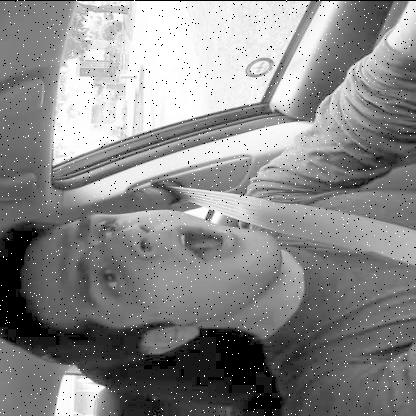seatbelt: (0, 158, 416, 362)
